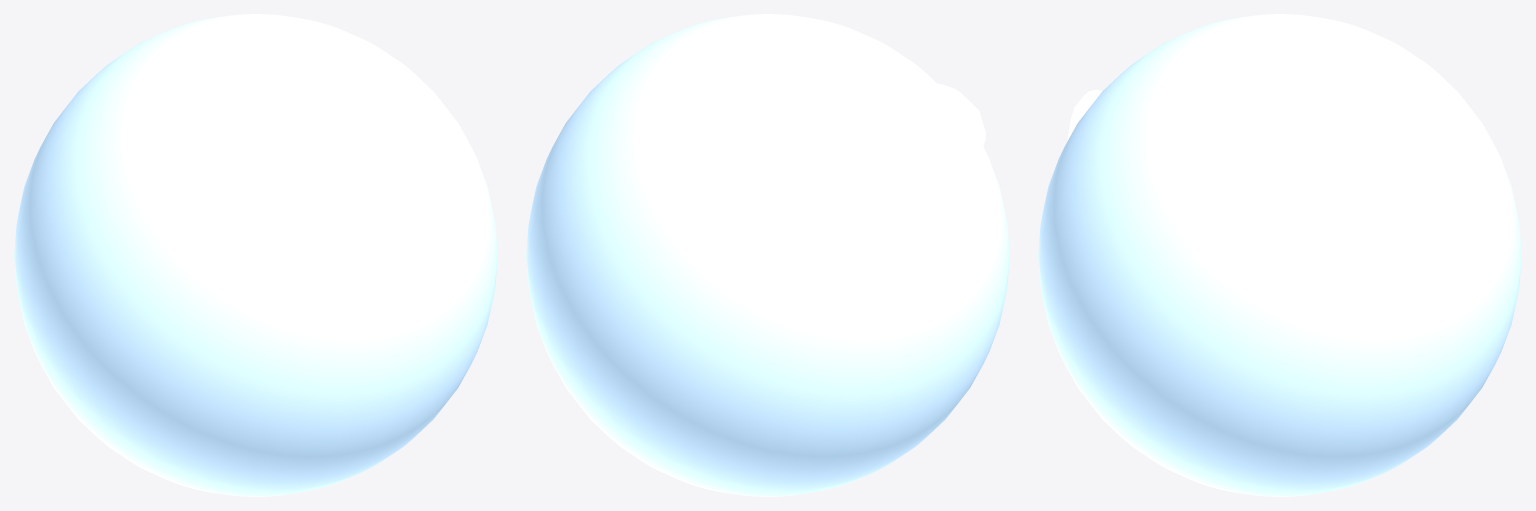
File: micek.glb
The picture shows the model from 3 angles, left to right: view 1: azimuth 30°, elevation 25°; view 2: azimuth 150°, elevation 25°; view 3: azimuth 270°, elevation 25°; orthographic projection.
Visible parts, largest first — view 1: micek_m, micek_lesk; view 2: micek_m, micek_lesk; view 3: micek_m, micek_lesk.
Boxes of the visible parts, x1,y1,x2,y2 form: micek_m: [14, 14, 497, 496]; micek_lesk: [222, 218, 305, 299]; micek_m: [526, 14, 1009, 496]; micek_lesk: [937, 83, 985, 145]; micek_m: [1038, 14, 1521, 496]; micek_lesk: [1067, 89, 1102, 140].
Bounding box in the file's own units: 1 × 1 × 1.
